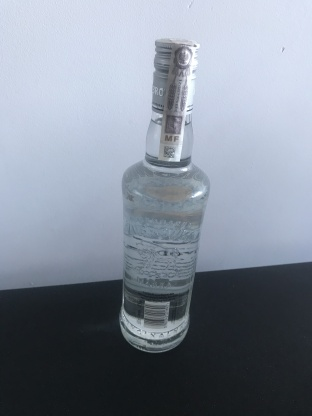nakretka: (149, 32, 201, 117)
